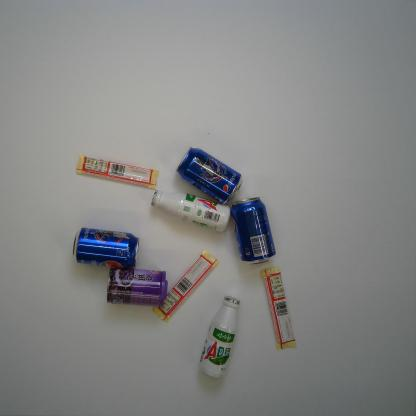Canned Food: (106, 266, 168, 308)
Chocolate: (151, 249, 220, 324), (259, 266, 297, 352), (75, 154, 160, 191)
Drink: (175, 146, 243, 205), (230, 196, 276, 266), (71, 226, 140, 271)
Milk: (198, 294, 241, 380), (150, 189, 231, 234)
